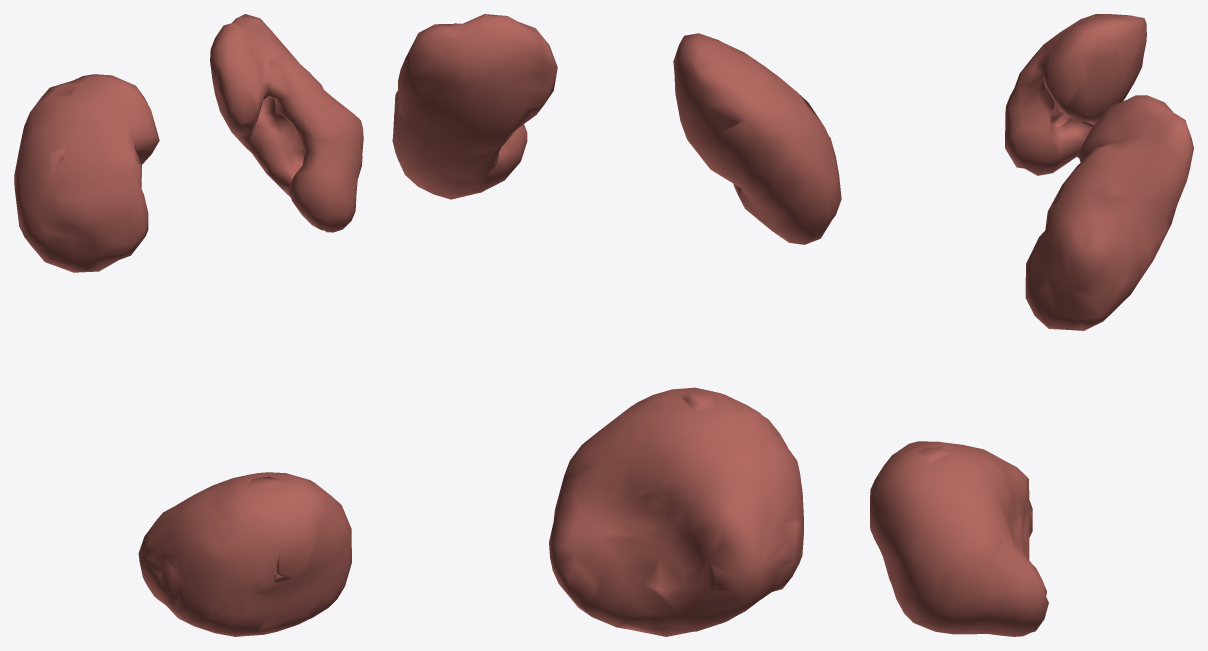
Rendered from tsd_s0196_older_adult_female.urinary.LOD4.glb.
The picture shows the model from 3 angles, left to right: view 1: azimuth 30°, elevation 25°; view 2: azimuth 150°, elevation 25°; view 3: azimuth 270°, elevation 25°; orthographic projection. The views are drawn at different scales.
Visible parts, largest first — view 1: TSD_S0196.OLDER_ADULT.FEMALE.URINARY.URINARY_BLADDER, TSD_S0196.OLDER_ADULT.FEMALE.URINARY.KIDNEY.R, TSD_S0196.OLDER_ADULT.FEMALE.URINARY.KIDNEY.L; view 2: TSD_S0196.OLDER_ADULT.FEMALE.URINARY.URINARY_BLADDER, TSD_S0196.OLDER_ADULT.FEMALE.URINARY.KIDNEY.L, TSD_S0196.OLDER_ADULT.FEMALE.URINARY.KIDNEY.R; view 3: TSD_S0196.OLDER_ADULT.FEMALE.URINARY.URINARY_BLADDER, TSD_S0196.OLDER_ADULT.FEMALE.URINARY.KIDNEY.L, TSD_S0196.OLDER_ADULT.FEMALE.URINARY.KIDNEY.R.
Boxes of the visible parts, bbox=[...] form: TSD_S0196.OLDER_ADULT.FEMALE.URINARY.URINARY_BLADDER: bbox=[138, 472, 351, 636]; TSD_S0196.OLDER_ADULT.FEMALE.URINARY.KIDNEY.R: bbox=[14, 74, 159, 272]; TSD_S0196.OLDER_ADULT.FEMALE.URINARY.KIDNEY.L: bbox=[210, 14, 363, 232]; TSD_S0196.OLDER_ADULT.FEMALE.URINARY.URINARY_BLADDER: bbox=[549, 387, 803, 636]; TSD_S0196.OLDER_ADULT.FEMALE.URINARY.KIDNEY.L: bbox=[392, 14, 557, 199]; TSD_S0196.OLDER_ADULT.FEMALE.URINARY.KIDNEY.R: bbox=[673, 33, 841, 244]; TSD_S0196.OLDER_ADULT.FEMALE.URINARY.URINARY_BLADDER: bbox=[870, 441, 1048, 636]; TSD_S0196.OLDER_ADULT.FEMALE.URINARY.KIDNEY.L: bbox=[1025, 95, 1193, 330]; TSD_S0196.OLDER_ADULT.FEMALE.URINARY.KIDNEY.R: bbox=[1005, 14, 1146, 175].
Size of the model in its own units: 0.1834 by 0.2714 by 0.1407.
